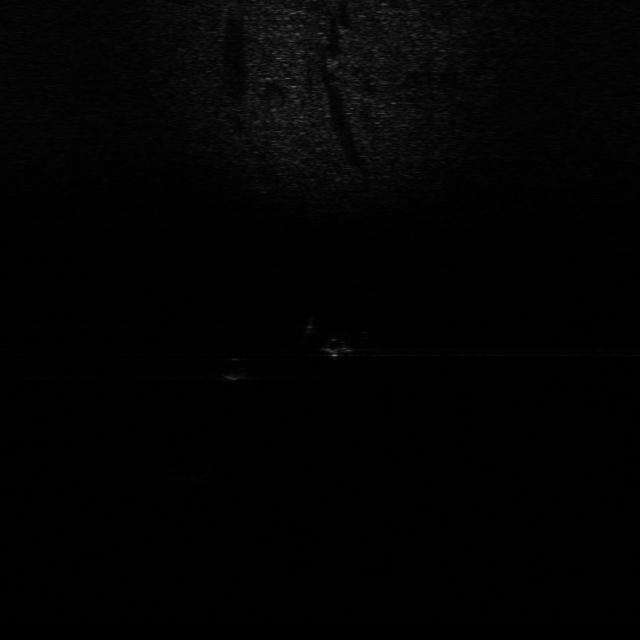ball: (210, 354, 250, 381)
circle cage: (166, 455, 214, 483)
human body: (299, 313, 373, 359)
